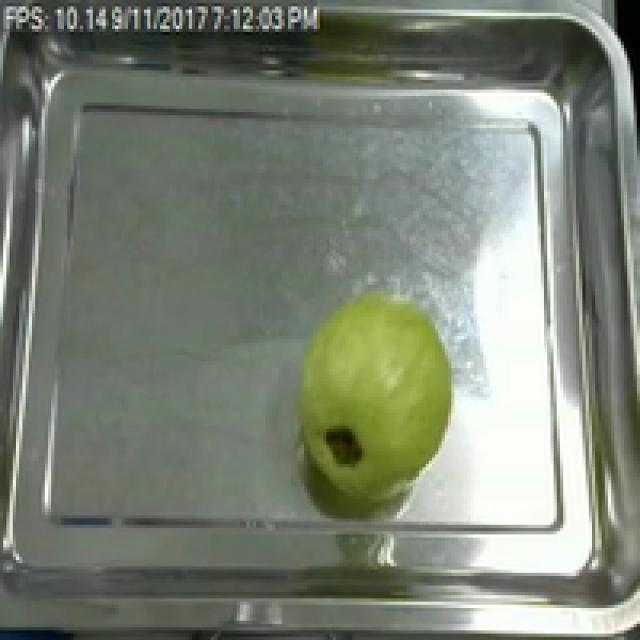Fruit: (272, 282, 467, 524)
